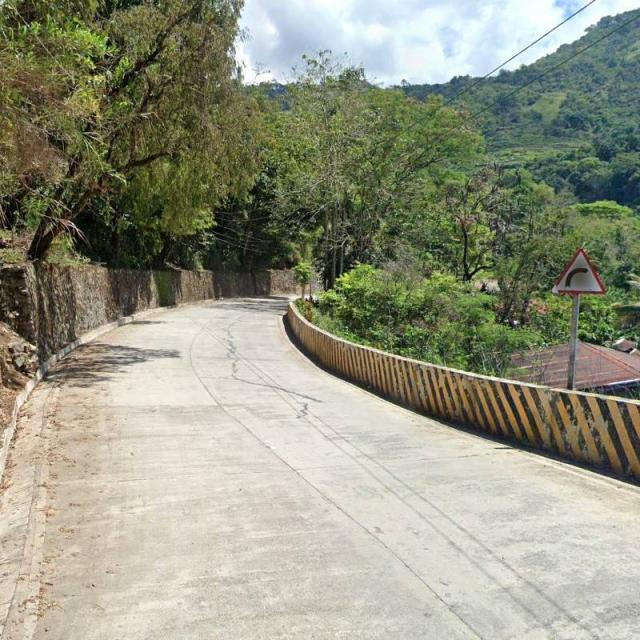warn_right_curve: (551, 249, 606, 294)
